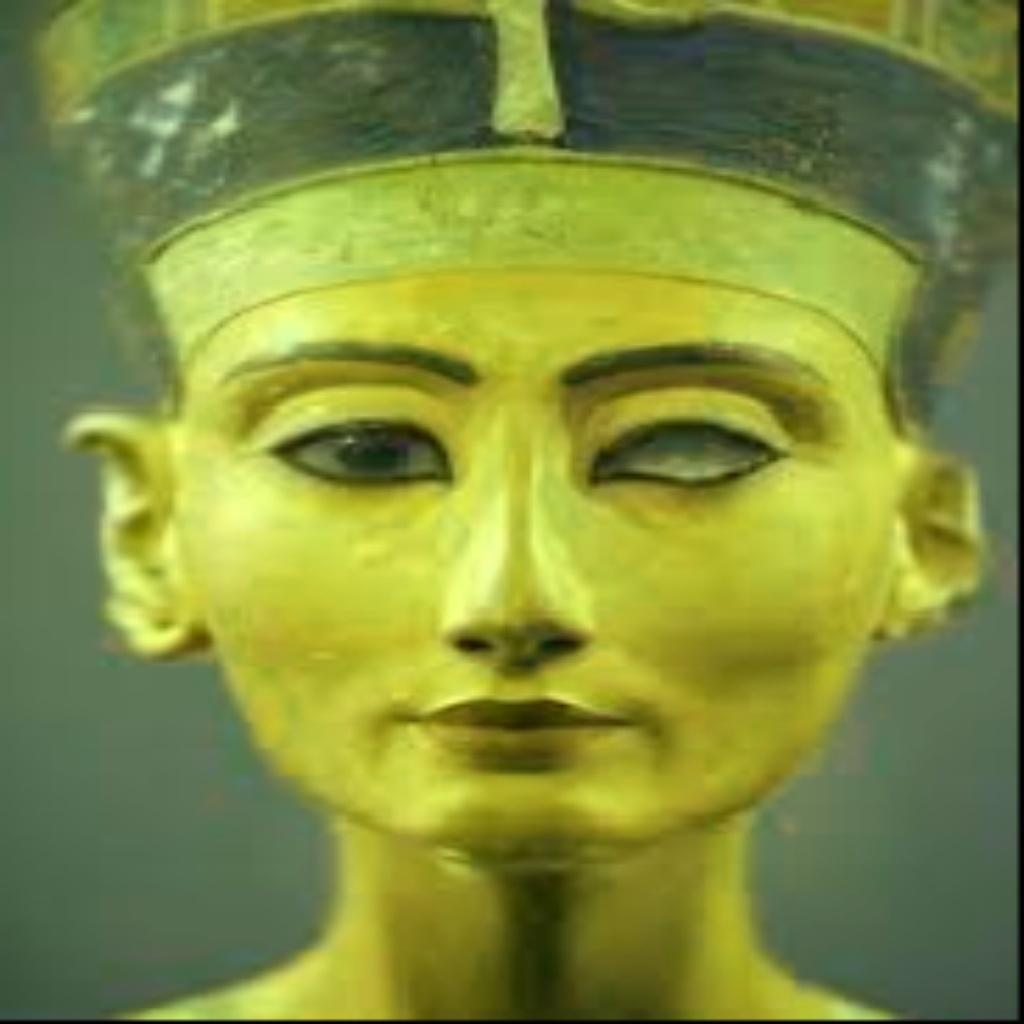Nefertiti: (34, 0, 1012, 1017)
